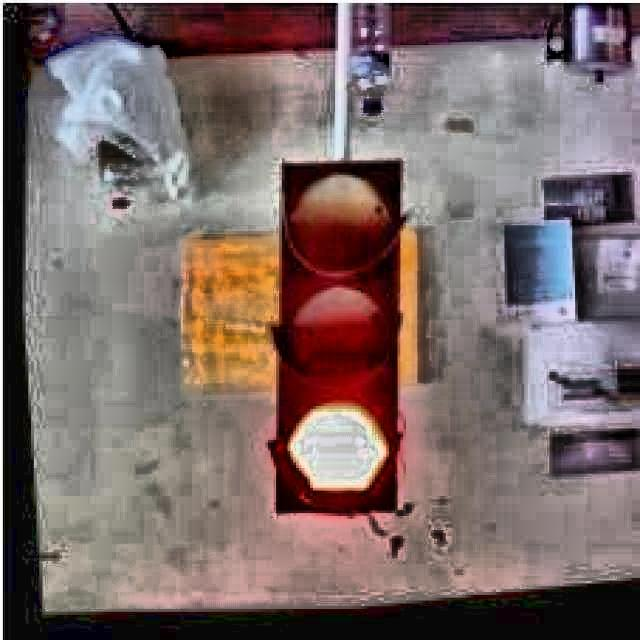red: (279, 152, 408, 520)
